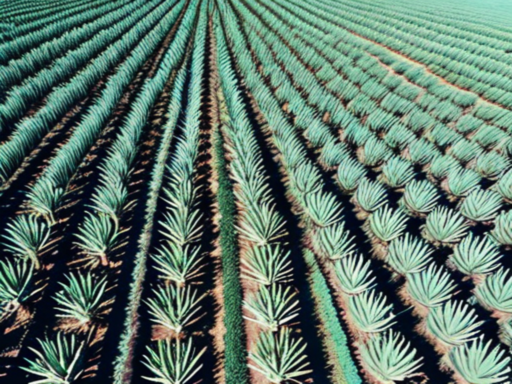agave: (138, 276, 220, 335), (136, 332, 225, 384), (244, 328, 326, 384), (360, 325, 432, 382), (30, 328, 101, 384), (54, 267, 116, 330), (3, 211, 57, 280), (423, 295, 489, 350), (73, 215, 127, 273), (240, 283, 306, 329), (240, 241, 305, 287), (401, 262, 464, 308), (234, 200, 294, 248), (340, 289, 403, 333), (153, 204, 213, 250), (151, 240, 211, 285), (441, 229, 505, 270), (293, 190, 354, 233), (385, 232, 437, 276), (415, 210, 470, 251), (313, 218, 365, 260), (226, 165, 278, 205), (28, 178, 73, 222), (332, 256, 380, 297), (454, 184, 507, 221), (284, 160, 333, 200), (154, 174, 208, 210), (395, 181, 444, 220), (85, 179, 133, 217), (366, 207, 410, 240), (333, 160, 373, 194), (351, 180, 393, 212), (354, 133, 394, 166), (440, 166, 482, 197), (317, 138, 357, 170), (400, 135, 442, 165), (420, 153, 466, 179), (380, 155, 417, 186), (473, 149, 511, 179), (451, 134, 486, 164), (385, 119, 418, 149), (431, 120, 460, 144)
